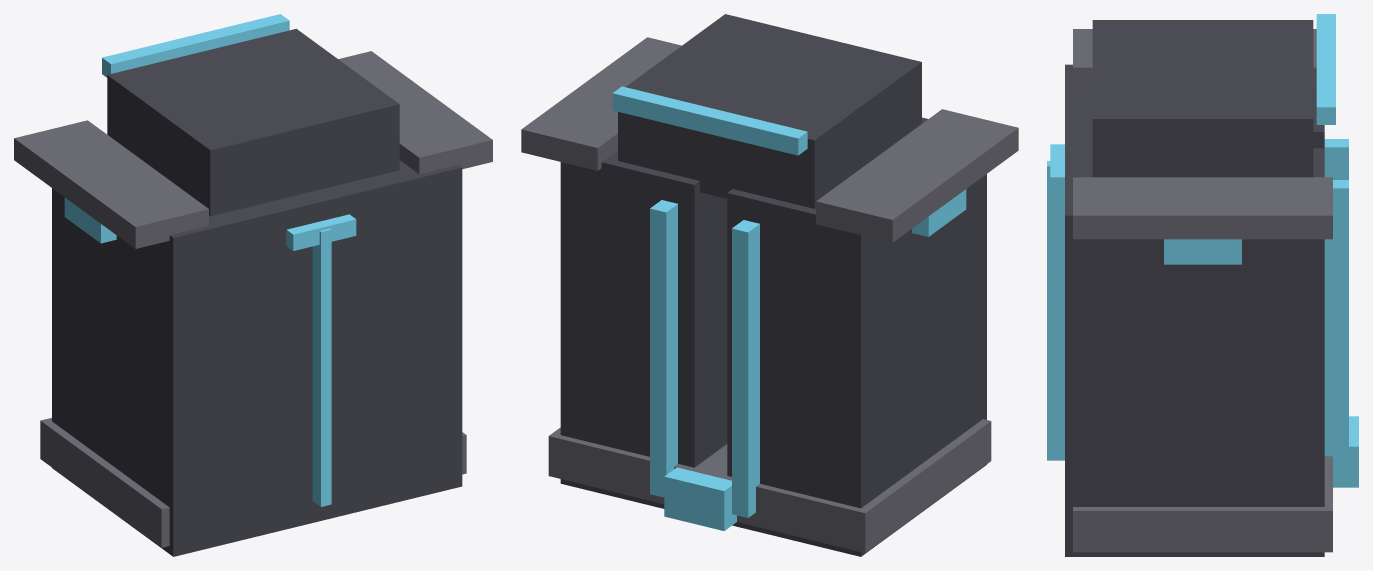
File: cauboi_neon_tronco.glb
3 views of the same model, side by side, from view 1: azimuth 30°, elevation 25°; view 2: azimuth 150°, elevation 25°; view 3: azimuth 270°, elevation 25° (orthographic). The views are drawn at different scales.
Visible parts, largest first — view 1: cauboi_neon_tronco; view 2: cauboi_neon_tronco; view 3: cauboi_neon_tronco.
Boxes of the visible parts, bbox=[...] form: cauboi_neon_tronco: bbox=[14, 14, 492, 556]; cauboi_neon_tronco: bbox=[521, 14, 1018, 556]; cauboi_neon_tronco: bbox=[1047, 14, 1358, 556].
Size of the model in its own units: 0.68 by 0.715 by 0.48.
